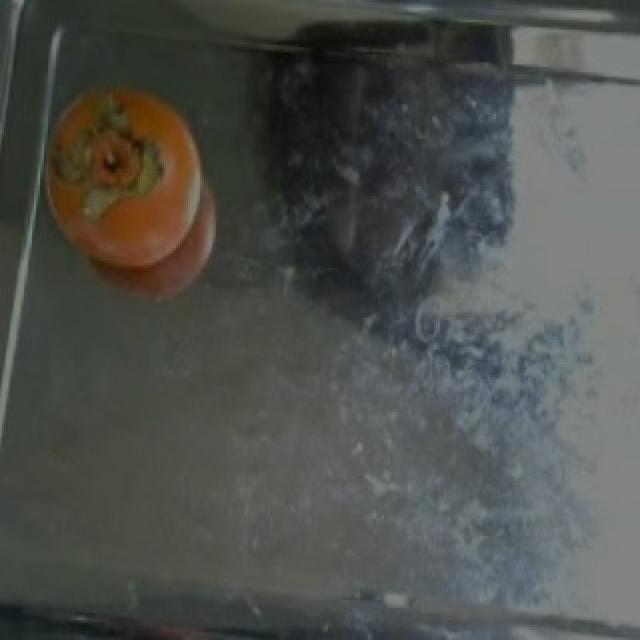Fruit: (32, 65, 218, 295)
